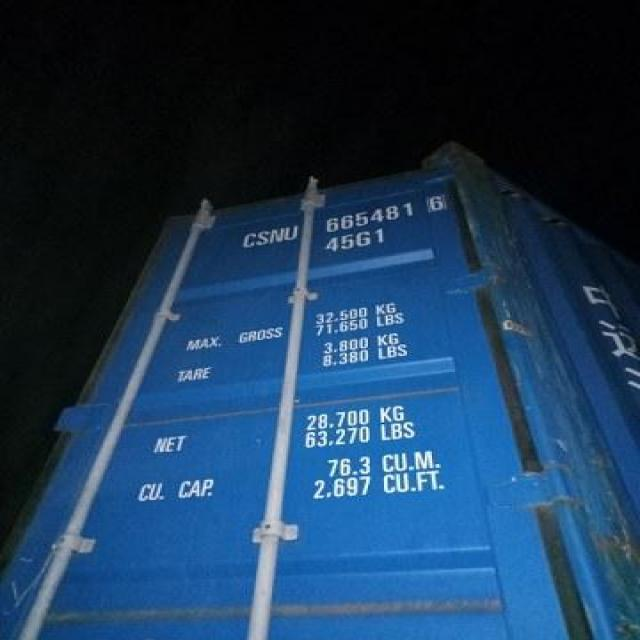ISO: (326, 231, 386, 252)
container_number: (235, 182, 455, 254)
